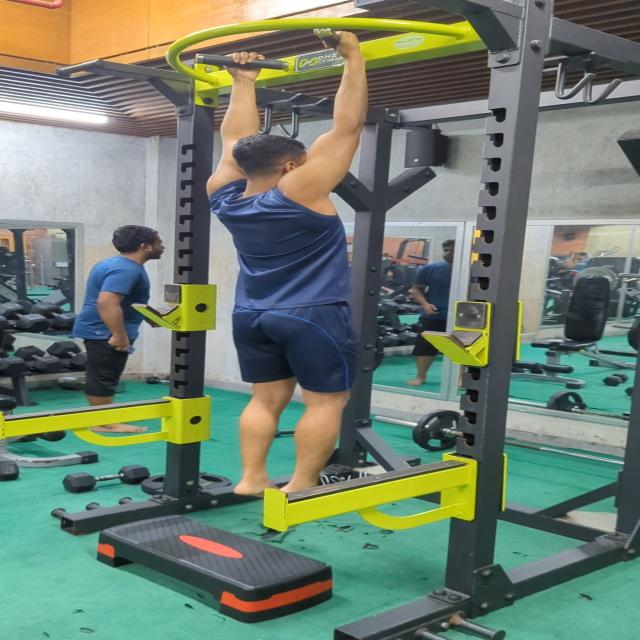Normal_PullUps: (198, 26, 372, 508)
